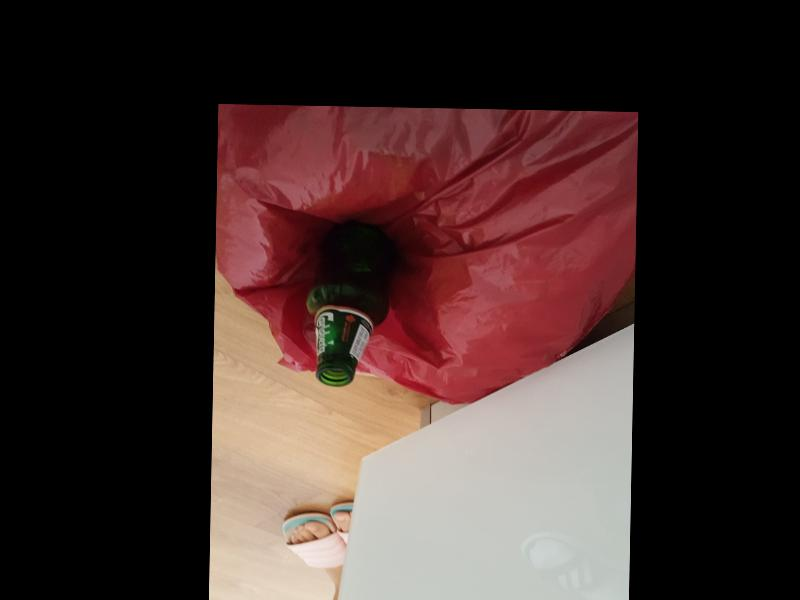Beer: (305, 220, 397, 386)
